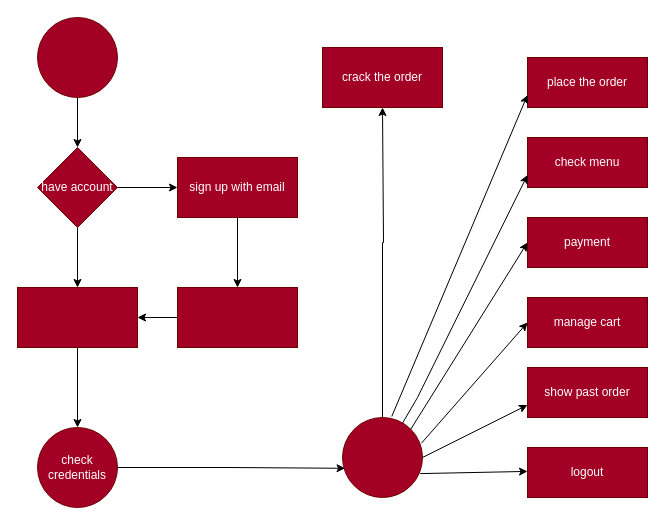
This 665x525 diagram has some shape labels left out. The box of each missing label's shape, as (x1, y1, x2, y2) in pixels:
login: (16, 286, 138, 348)
manage app: (342, 416, 422, 498)
update the information: (176, 286, 298, 348)
user: (36, 16, 118, 98)
